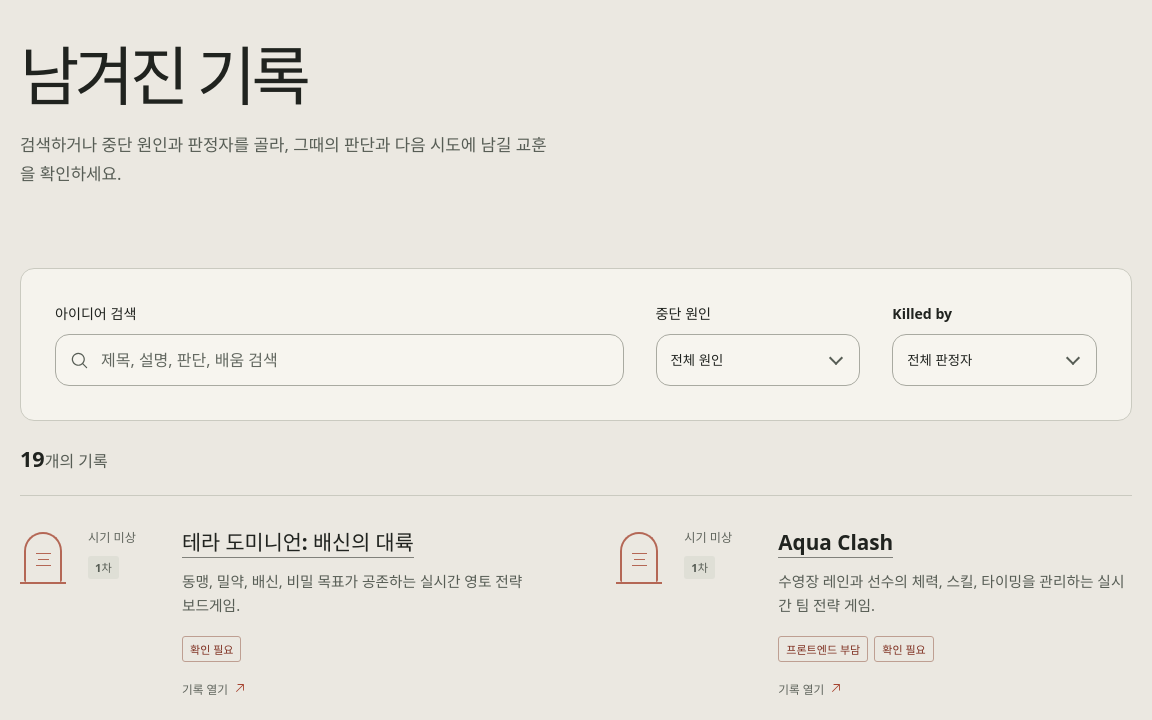
Test: App › 판정자를 선택해 해당 기록만 보여주고 초기화한다
(page scrolled)
Select "밤송이 클럽" in the dropdown labelled "Killed by" at (995, 360), box [893,335,1096,385]
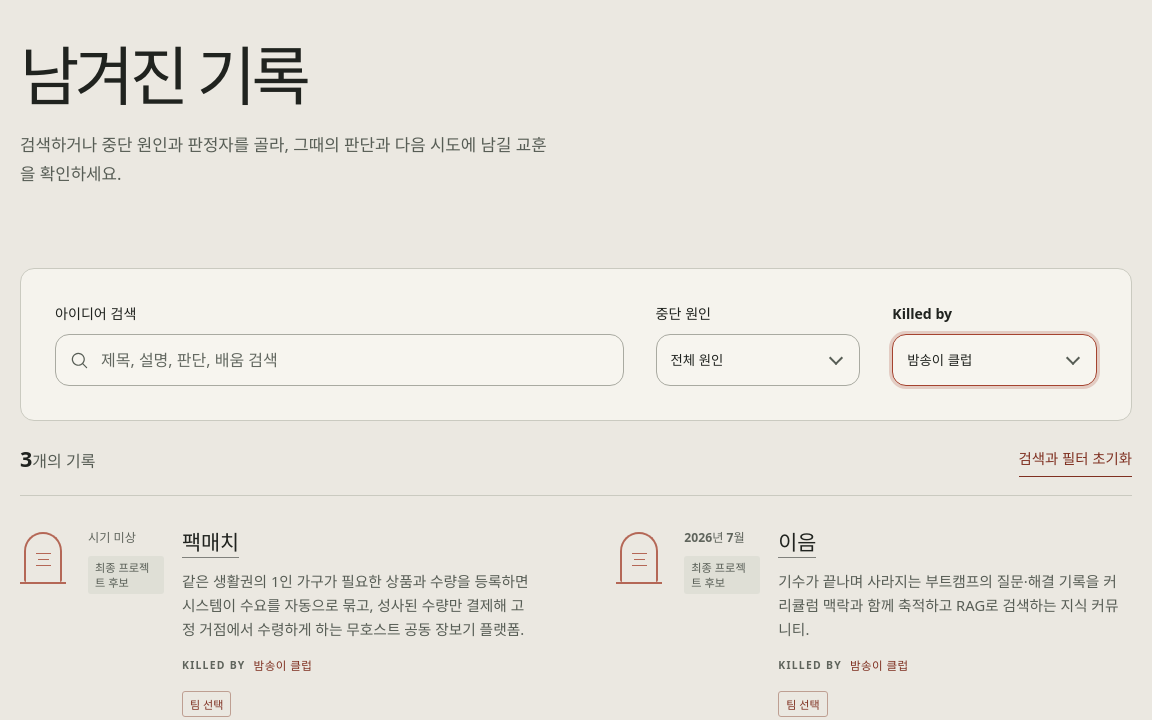
Expected: the button "팩매치" is shown, [182,530,239,558]
Result: the number of list items is 3
Click the button "검색과 필터 초기화" at (1075, 458), box [1019,439,1132,477]
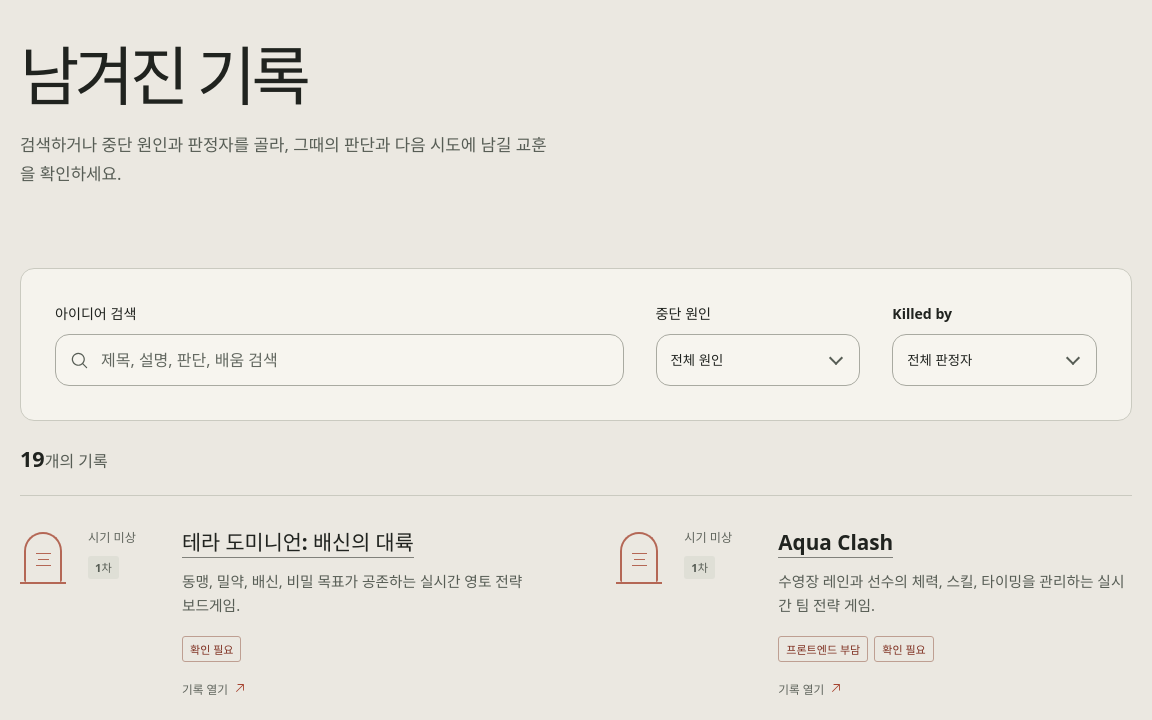
Result: the number of list items is 19
